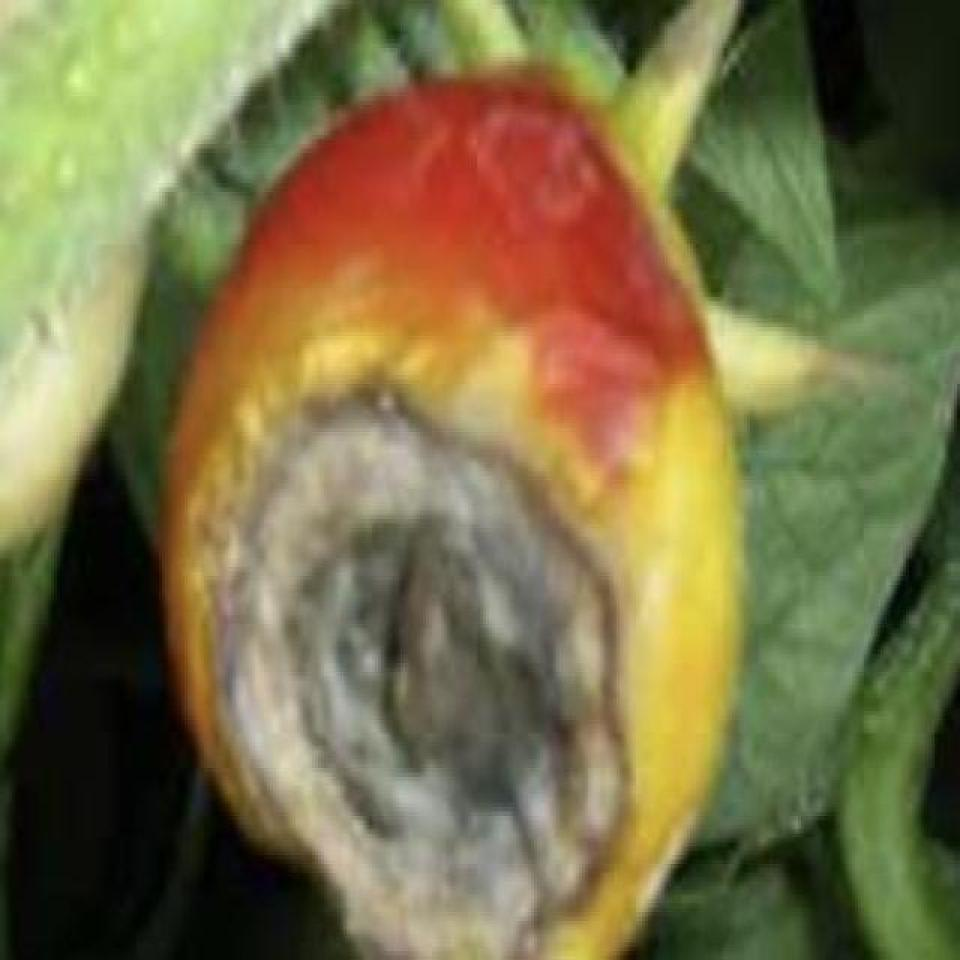Blossom_end_rot: (183, 367, 678, 960)
